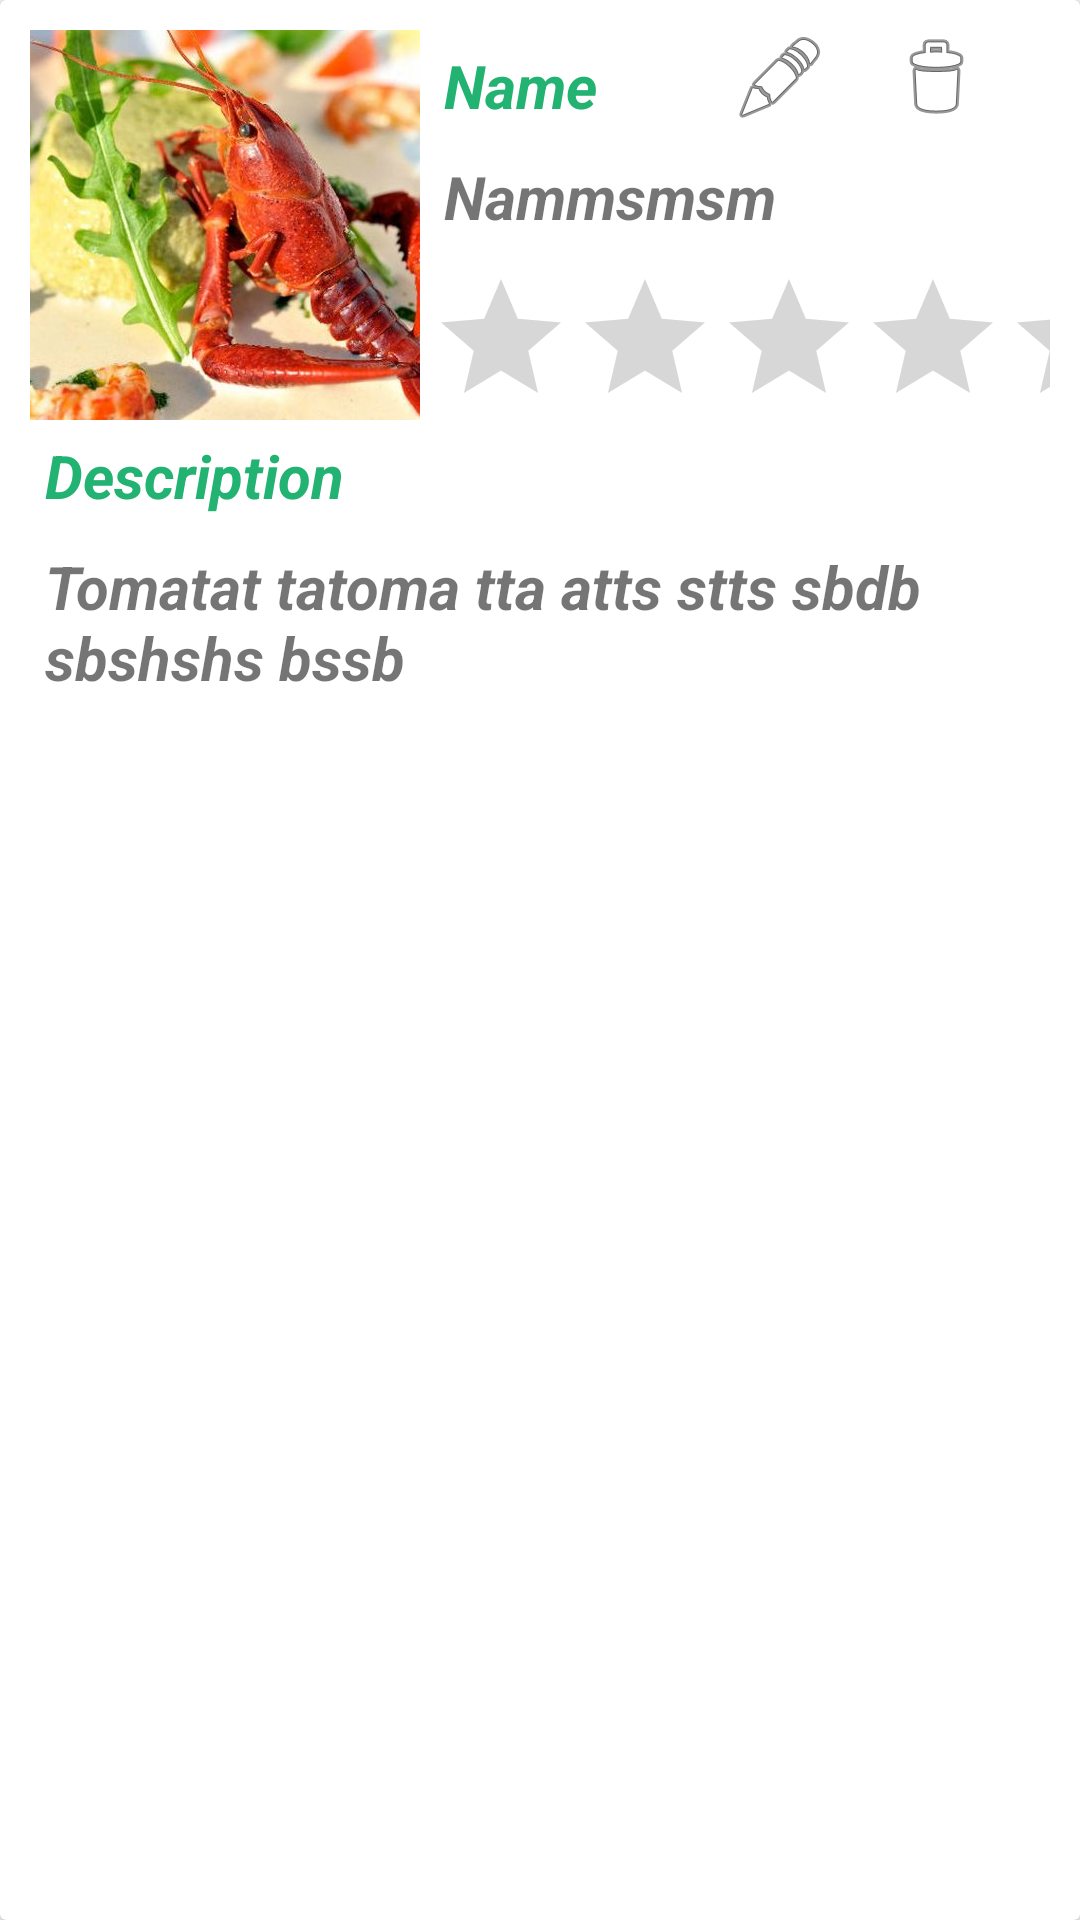

Named icons in this screenshot (1080×1920) and their bounding boxes, (x1, y1, x2, y2):
delete: (909, 39, 964, 114)
edit: (739, 37, 820, 118)
